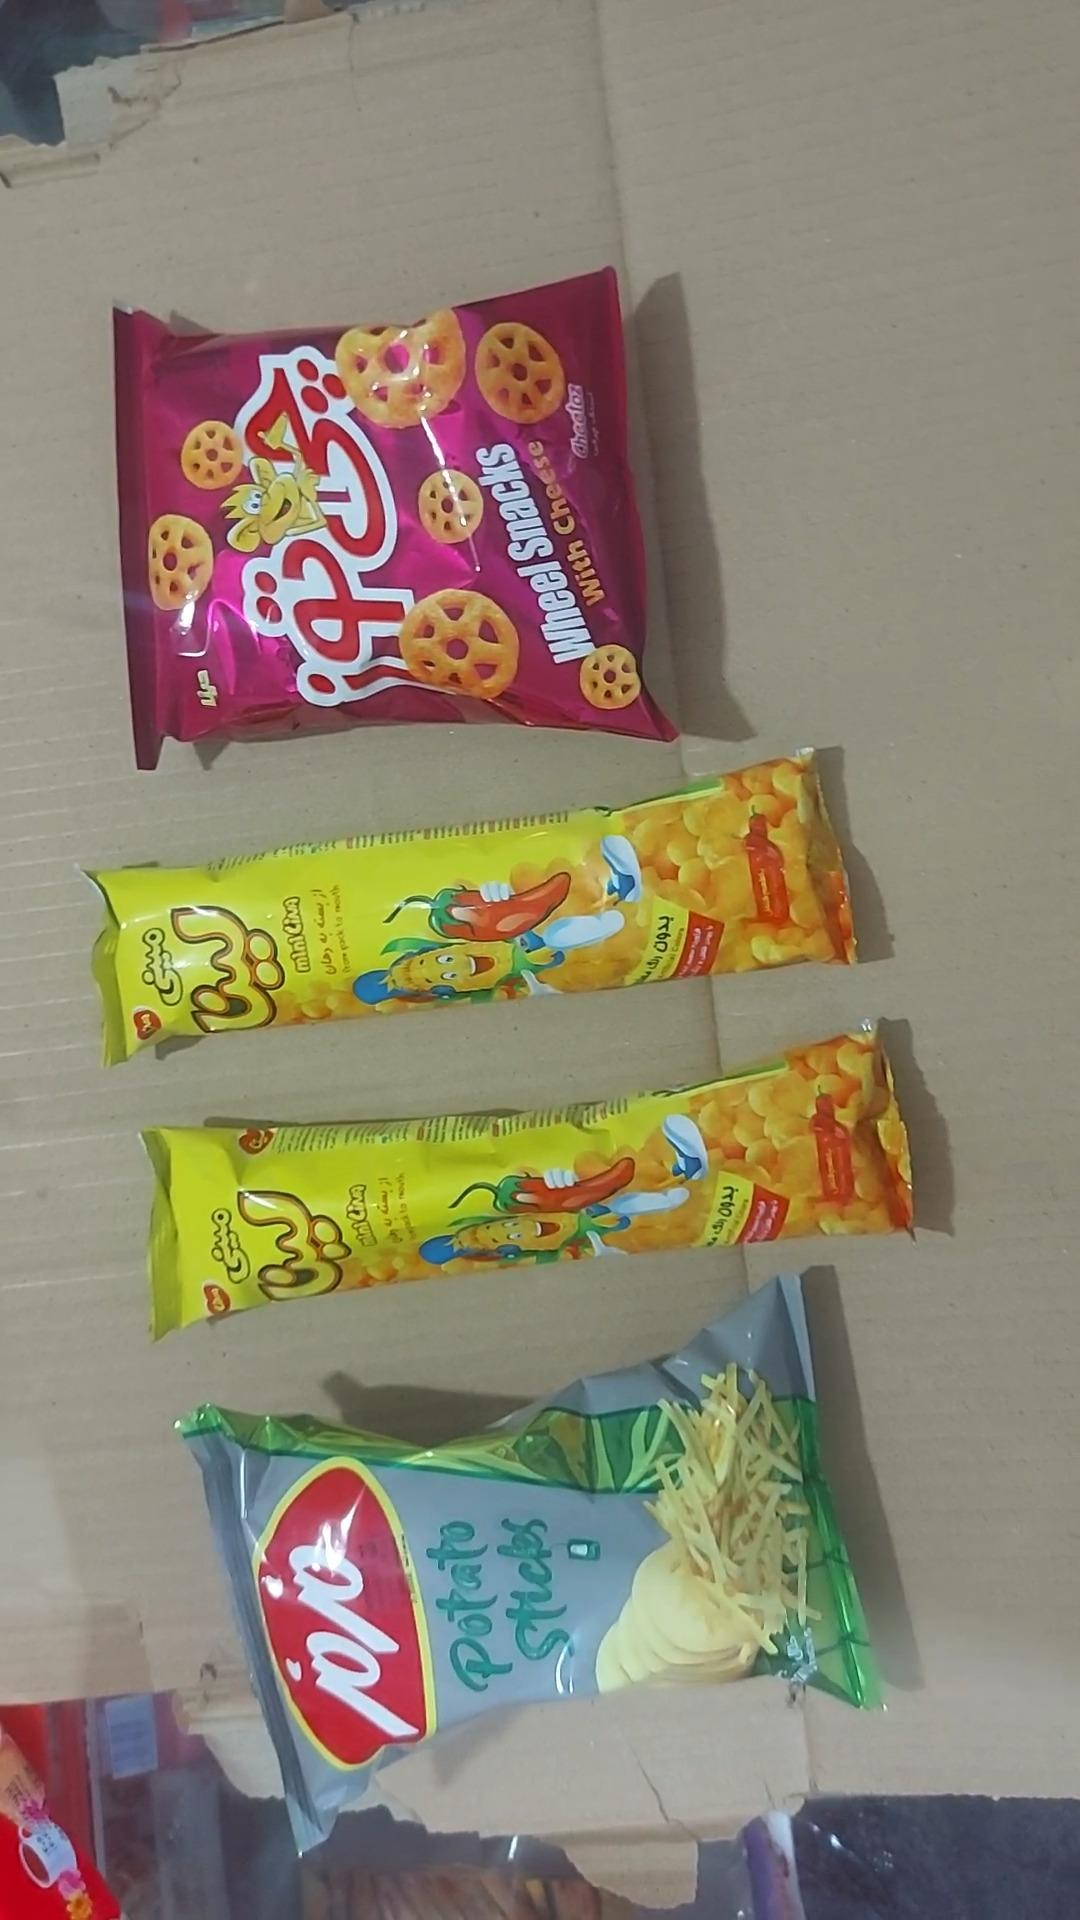Cheetoz wheelsnack: (113, 266, 674, 769)
Maz Maz potato sticks: (179, 1276, 877, 1847)
Mini Lina: (90, 754, 856, 1064), (141, 1031, 913, 1338)
